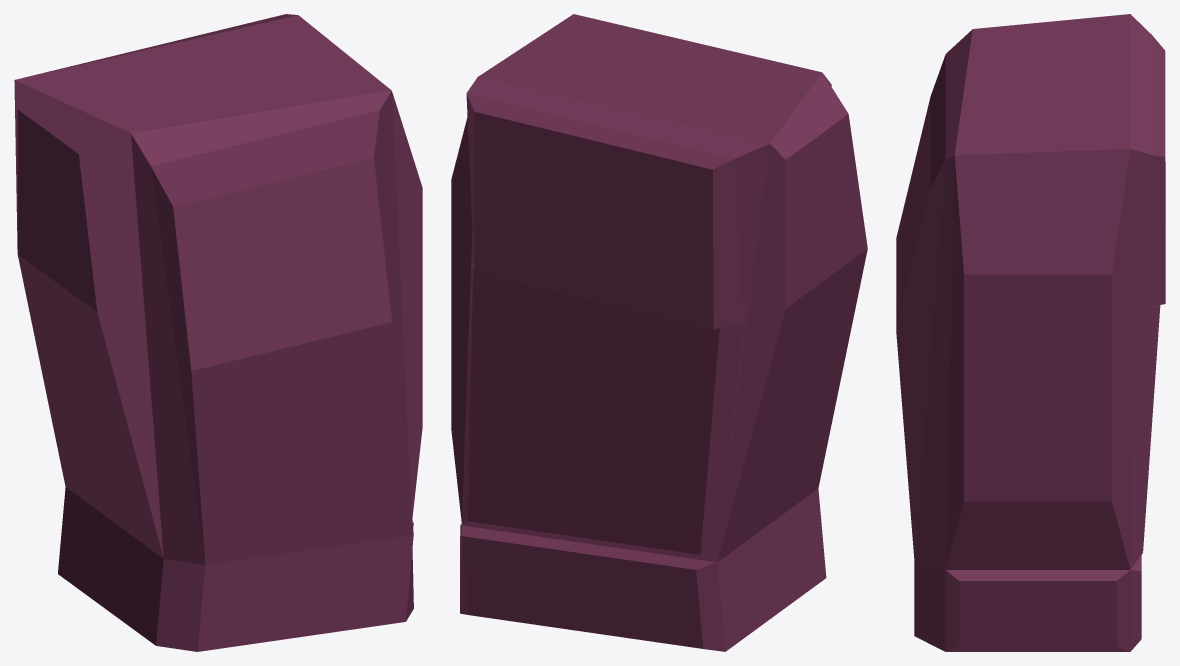
Rendered from migifutomomo.obj.
3 renders of one model, left to right at view 1: azimuth 30°, elevation 25°; view 2: azimuth 150°, elevation 25°; view 3: azimuth 270°, elevation 25°, orthographic. The views are drawn at different scales.
Visible parts, largest first — view 1: pCube6 pCube7; view 2: pCube6 pCube7; view 3: pCube6 pCube7.
Boxes of the visible parts, x1,y1,x2,y2 form: pCube6 pCube7: (14,14,422,651); pCube6 pCube7: (451,14,867,651); pCube6 pCube7: (896,14,1165,651).
Size of the model in its own units: 0.743 by 1.16 by 0.5653.
1 material, 1 textured.
